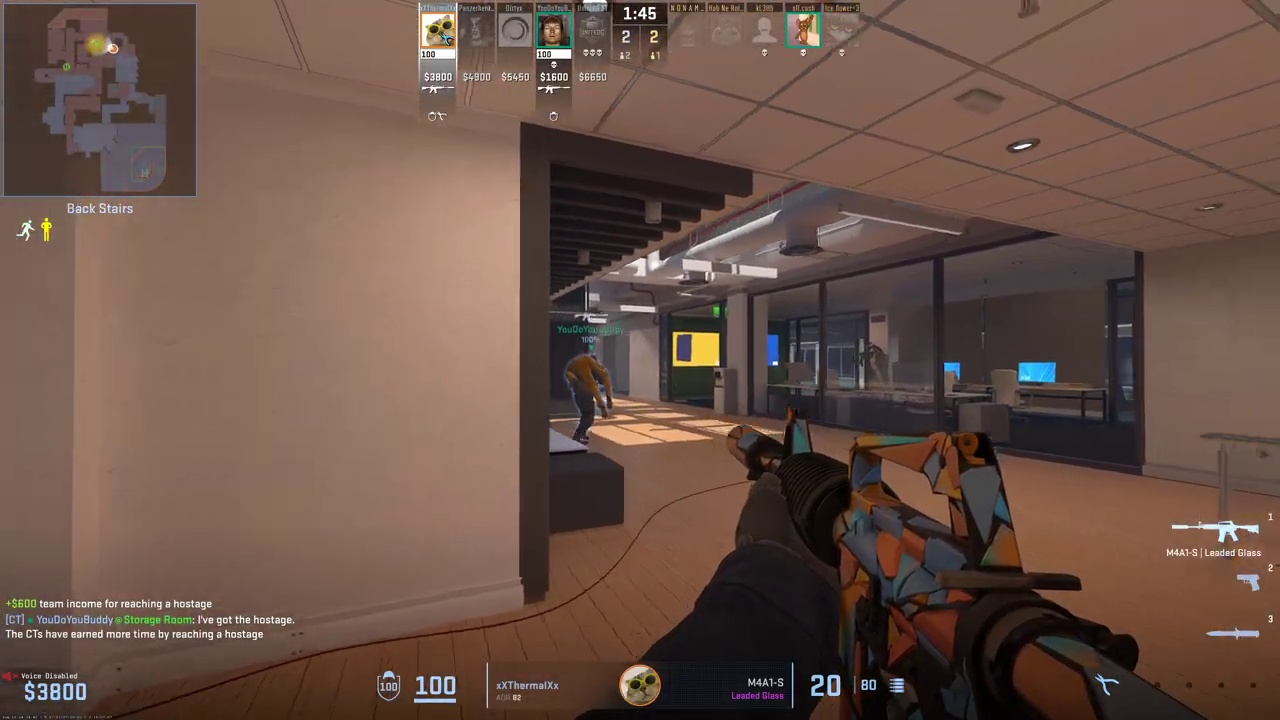CT: (571, 353, 604, 442)
